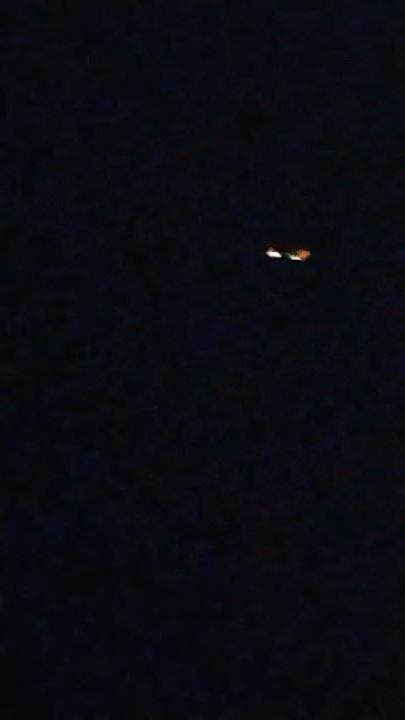Plane: (254, 229, 328, 272)
